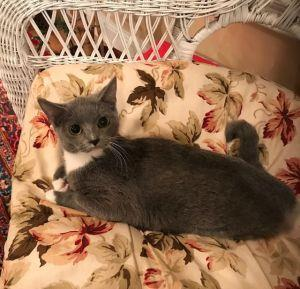rblue: (36, 75, 126, 162)
